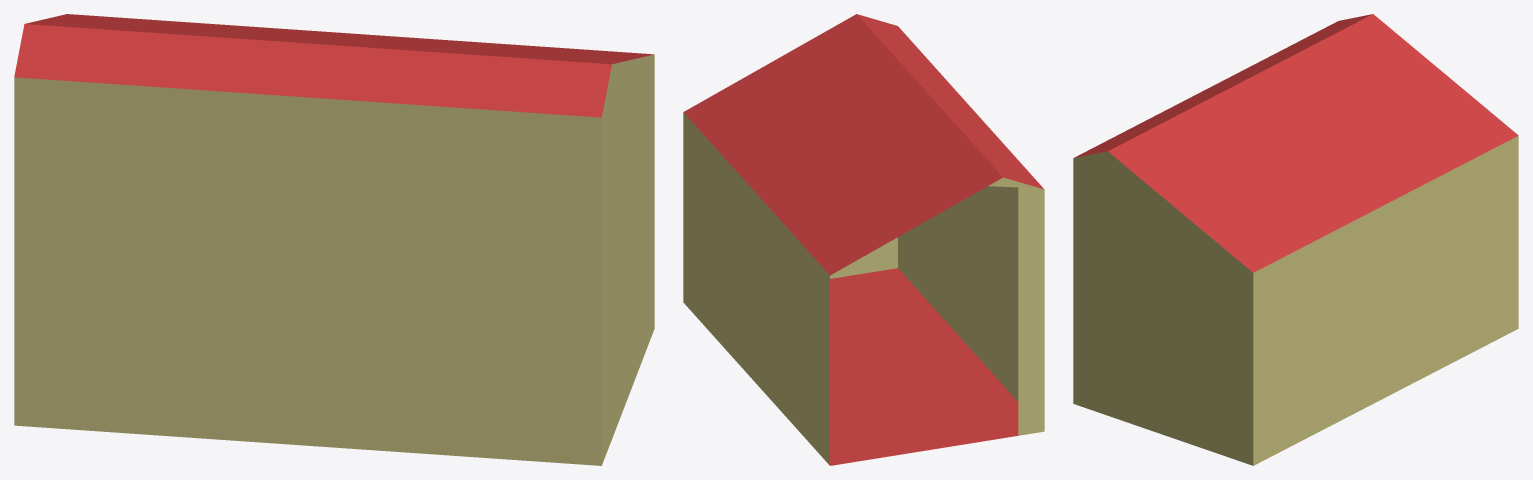
The picture shows the model from 3 angles, left to right: view 1: azimuth 30°, elevation 25°; view 2: azimuth 150°, elevation 25°; view 3: azimuth 270°, elevation 25°; orthographic projection. The views are drawn at different scales.
Visible parts, largest first — view 1: group_4, group_3; view 2: group_4, group_3, group_5; view 3: group_4, group_3.
Part boxes in pixels (x1,y1,x2,y2): group_4: [14, 54, 654, 465]; group_3: [14, 14, 653, 117]; group_4: [683, 112, 1044, 465]; group_3: [683, 14, 1043, 275]; group_5: [830, 268, 1018, 465]; group_4: [1073, 136, 1518, 465]; group_3: [1074, 14, 1518, 272].
Size of the model in its own units: 19.72 by 18.61 by 12.18.
